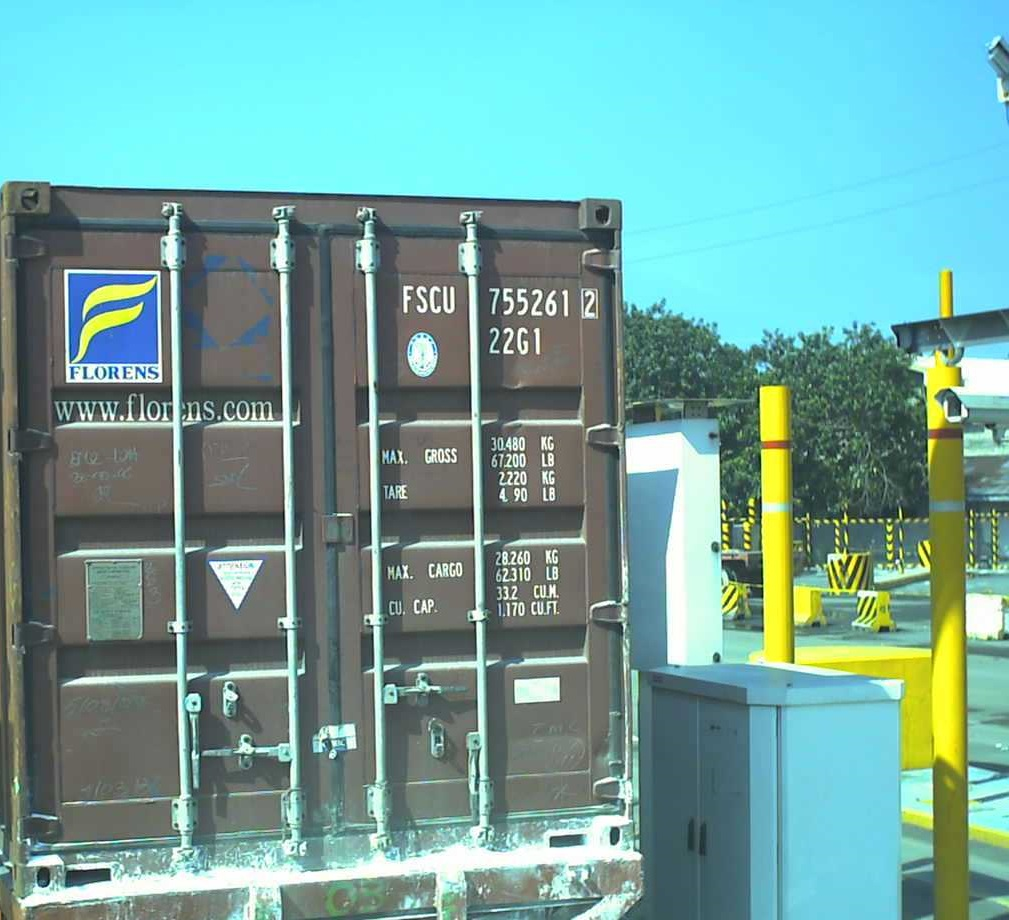container_door: (2, 174, 641, 898)
